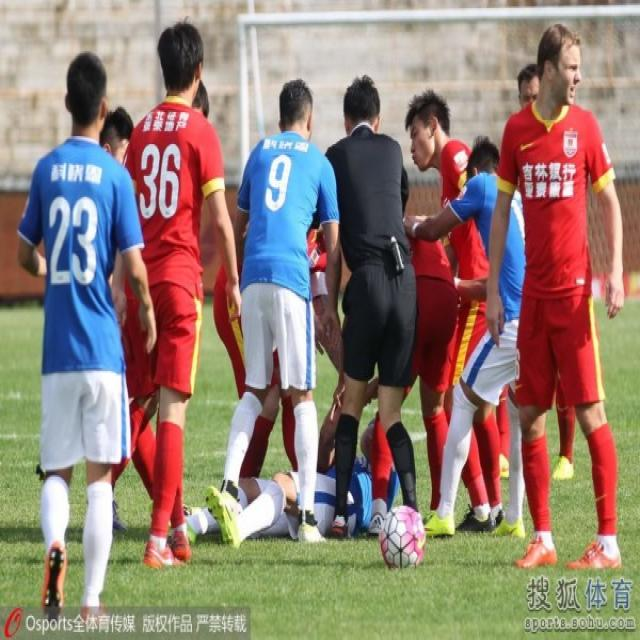10-: (9, 13, 626, 632)
down: (166, 394, 408, 556)
